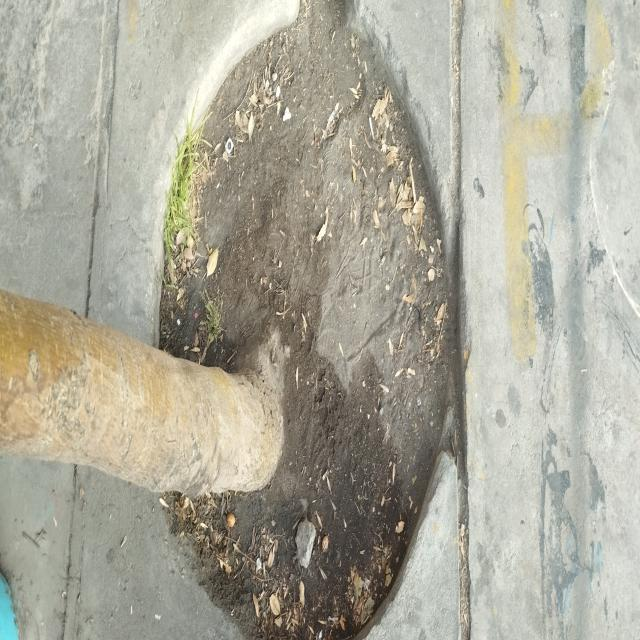hole: (158, 0, 452, 640)
